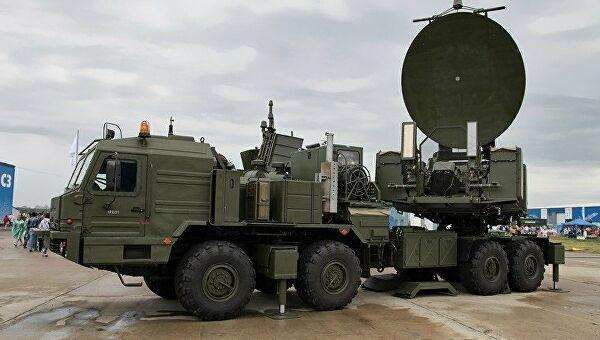truck: (45, 137, 576, 315)
